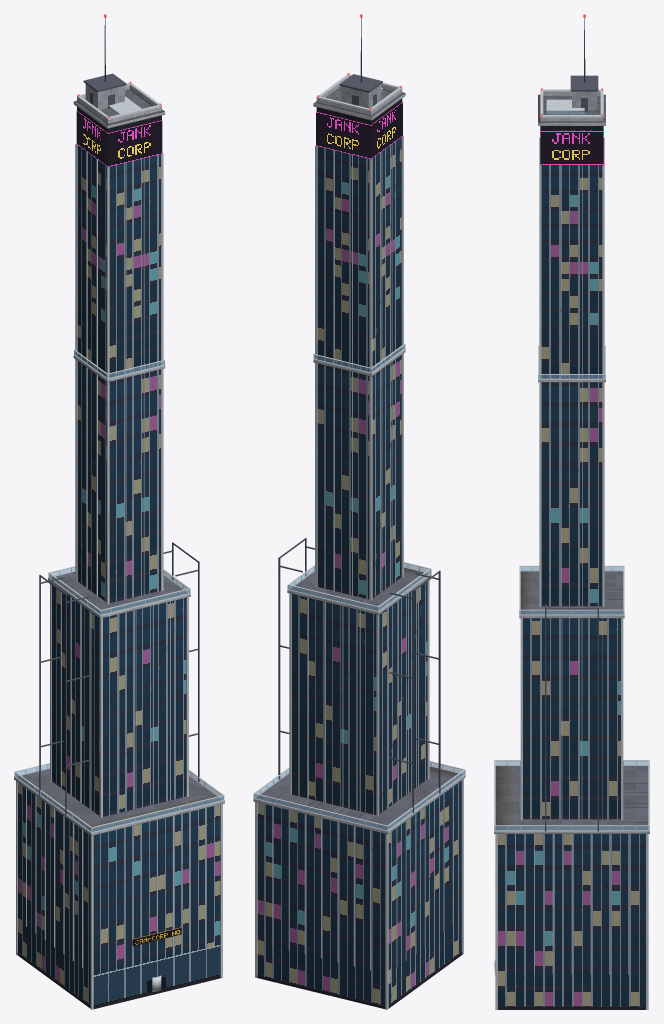
3 views of the same model, side by side, from view 1: azimuth 30°, elevation 25°; view 2: azimuth 150°, elevation 25°; view 3: azimuth 270°, elevation 25° (orthographic).
Parts seen in each view (by area): view 1: jb_hq_lod0; view 2: jb_hq_lod0; view 3: jb_hq_lod0.
Part boxes in pixels (box(x1,y1,x2,y2)): jb_hq_lod0: box(14, 14, 224, 1009); jb_hq_lod0: box(253, 14, 465, 1009); jb_hq_lod0: box(494, 14, 649, 1009).
Size of what is drawn, in the model's own units: 24.84 by 168 by 24.8.
Materials: 4 (2 with a texture image).
